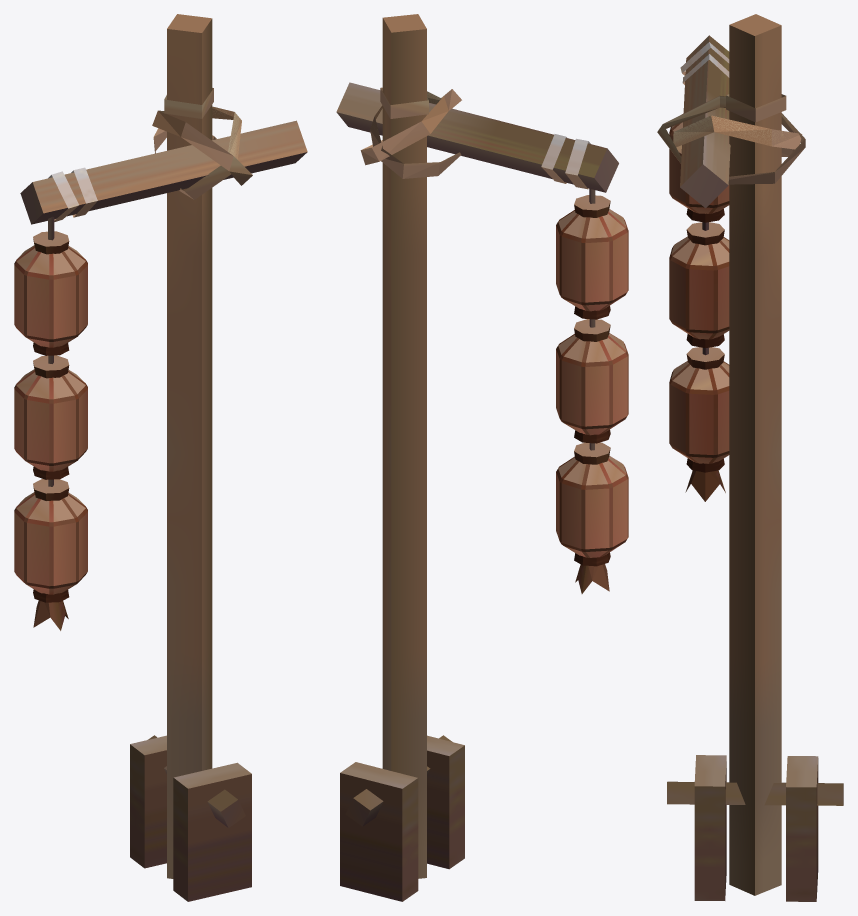
The model's file is denglong.fbx.
The picture shows the model from 3 angles, left to right: view 1: azimuth 30°, elevation 25°; view 2: azimuth 150°, elevation 25°; view 3: azimuth 270°, elevation 25°; orthographic projection.
Visible parts, largest first — view 1: LuDeng; view 2: LuDeng; view 3: LuDeng.
Part boxes in pixels (x1,y1,x2,y2): LuDeng: (14, 14, 307, 901); LuDeng: (336, 14, 628, 901); LuDeng: (657, 14, 843, 901).
Size of the model in its own units: 66.57 by 196 by 38.5.
